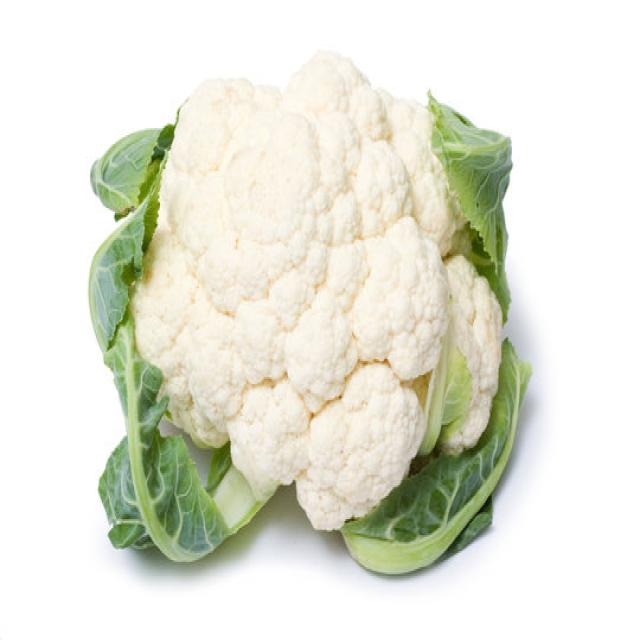Cauliflower: (133, 55, 509, 541)
